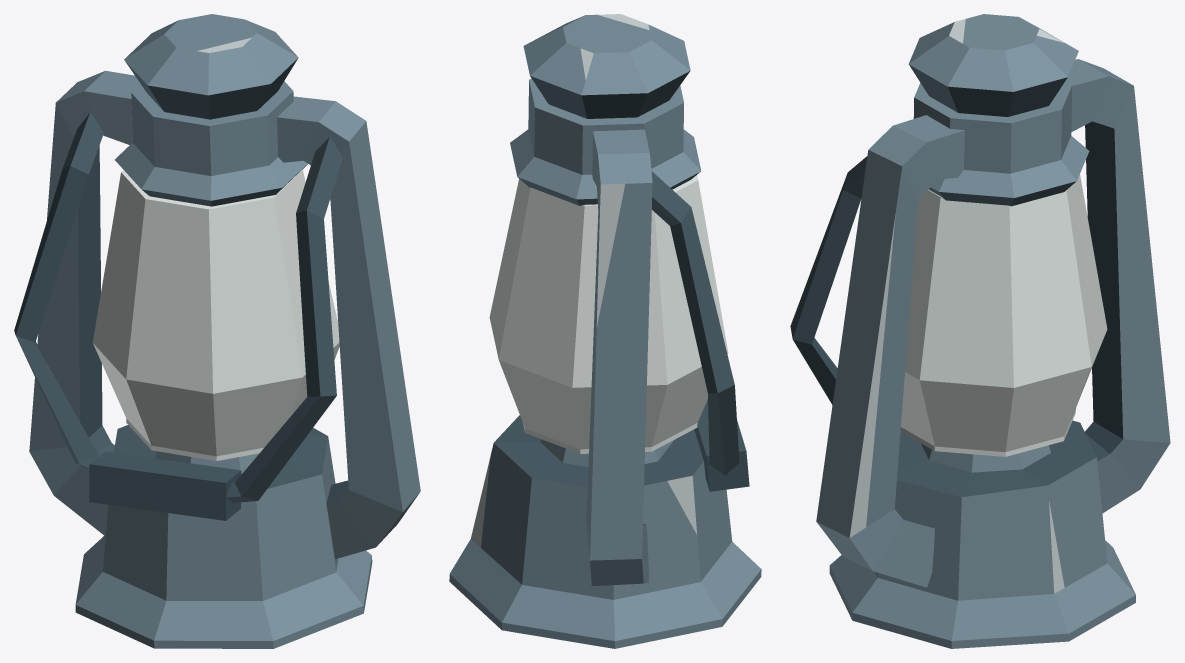
Rendered from lantern_nickslough.glb.
3 renders of one model, left to right at view 1: azimuth 30°, elevation 25°; view 2: azimuth 150°, elevation 25°; view 3: azimuth 270°, elevation 25°, orthographic.
Parts seen in each view (by area): view 1: Lantern; view 2: Lantern; view 3: Lantern.
Boxes of the visible parts, x1,y1,x2,y2 form: Lantern: (14, 14, 420, 648); Lantern: (449, 14, 761, 648); Lantern: (790, 14, 1170, 648).
Bounding box in the file's own units: 0.17 × 0.3 × 0.1856.
Materials: 2 (2 with a texture image).
